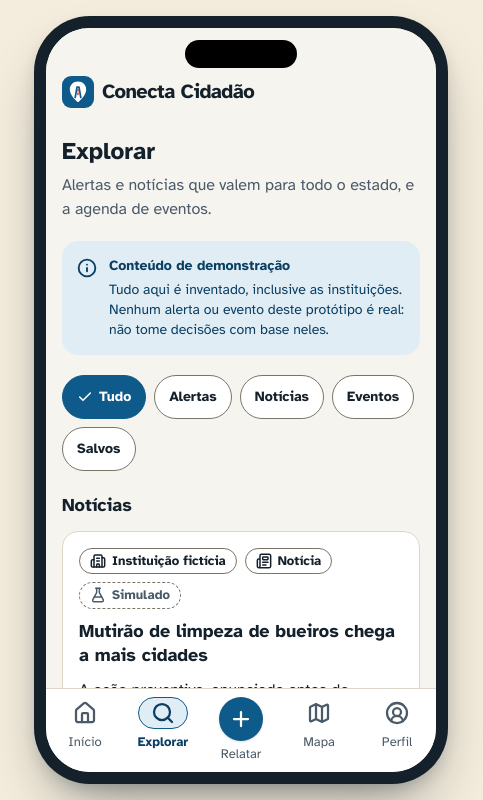
it: Estado como visitante › o relógio adiantado faz um alerta expirar: some de "Tudo" e vira "Encerrado"
Expected: the text "Previsão de chuva forte em várias regiões" is not shown
Click the button "Alertas".
click(193, 397)  # box [154,375,232,419]
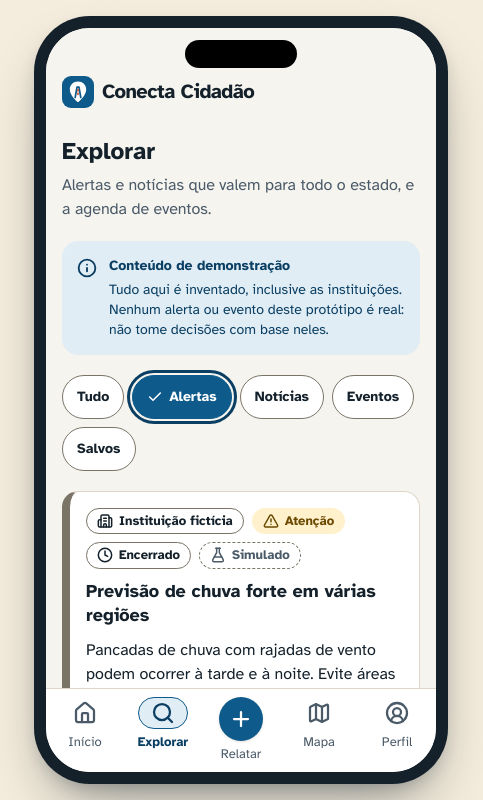
Now the text "Encerrado" is shown, box [86,542,191,569]
